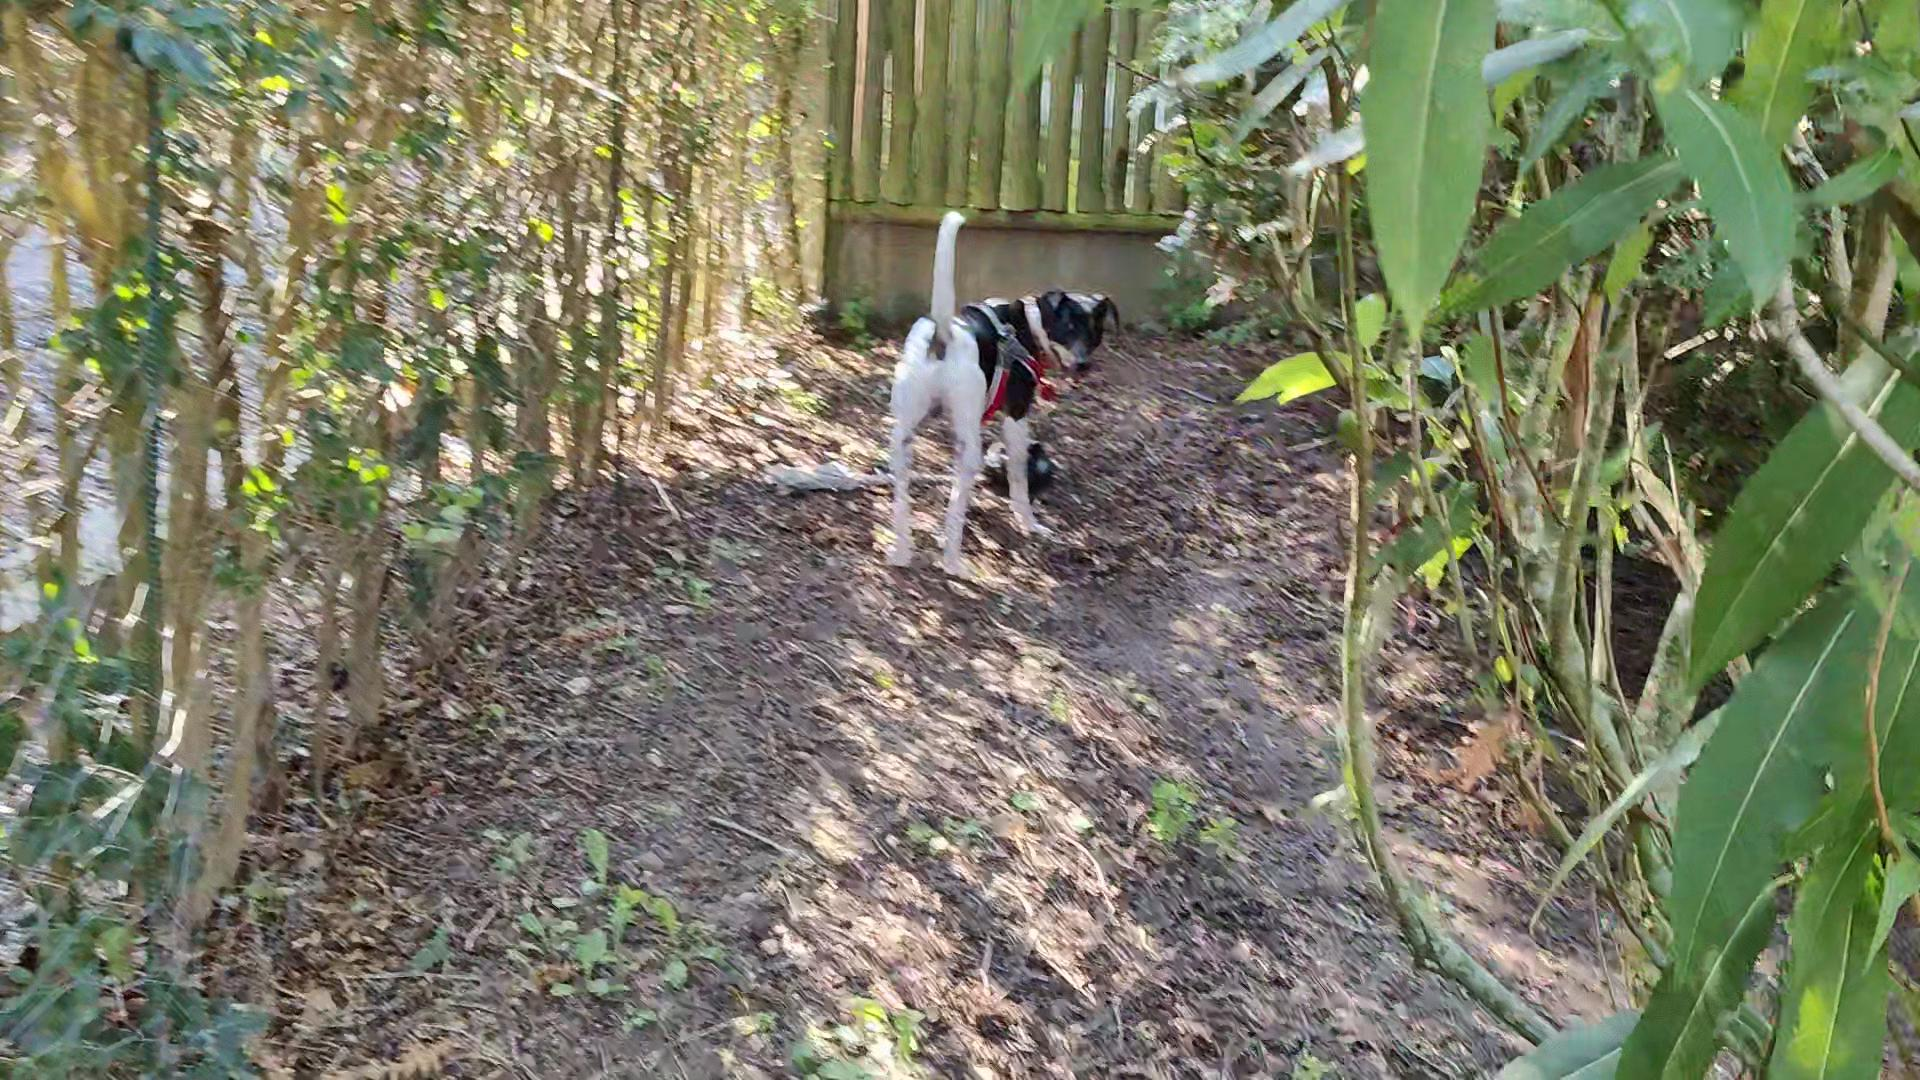Dog: (856, 187, 1137, 596)
